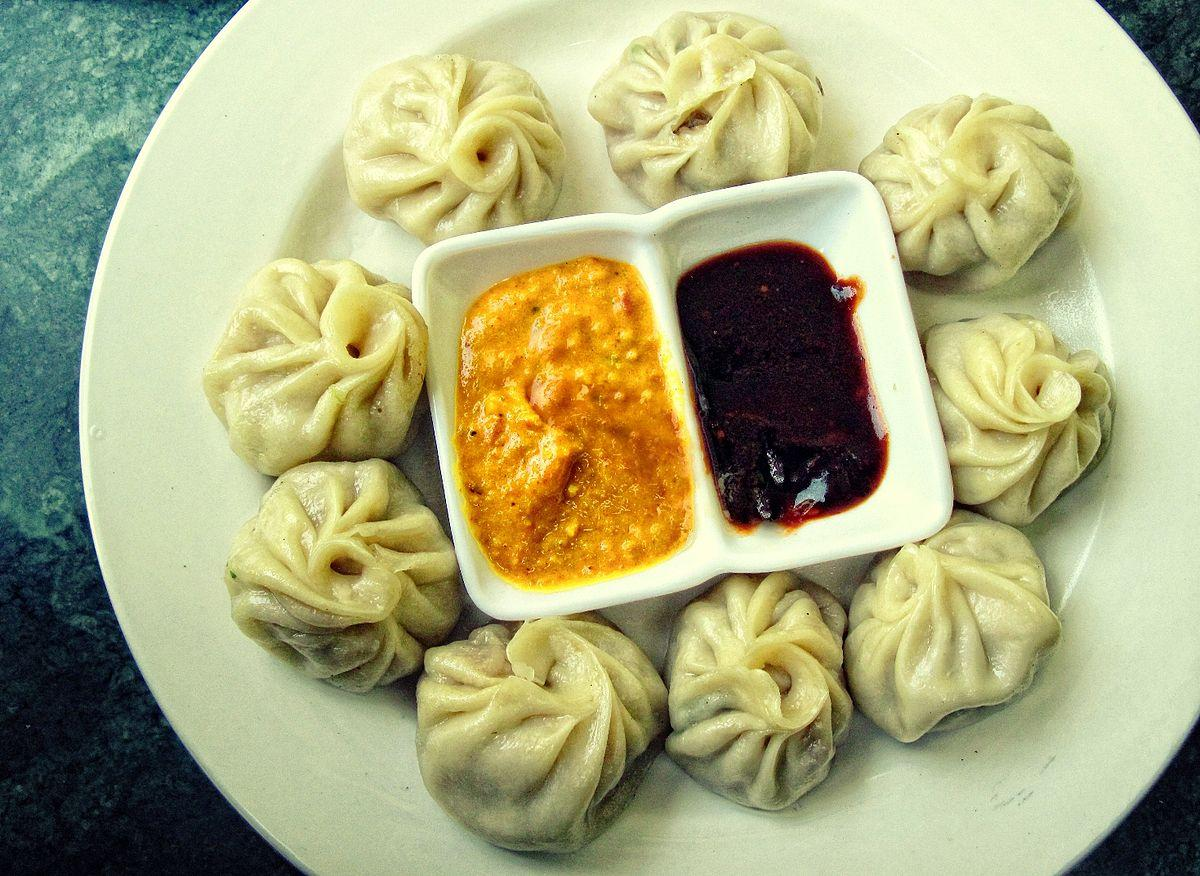momos: (417, 614, 668, 852), (225, 459, 462, 693), (846, 511, 1064, 743), (204, 258, 427, 475), (589, 8, 822, 206), (664, 574, 850, 811), (857, 97, 1074, 293), (340, 51, 567, 237), (919, 318, 1111, 526)
